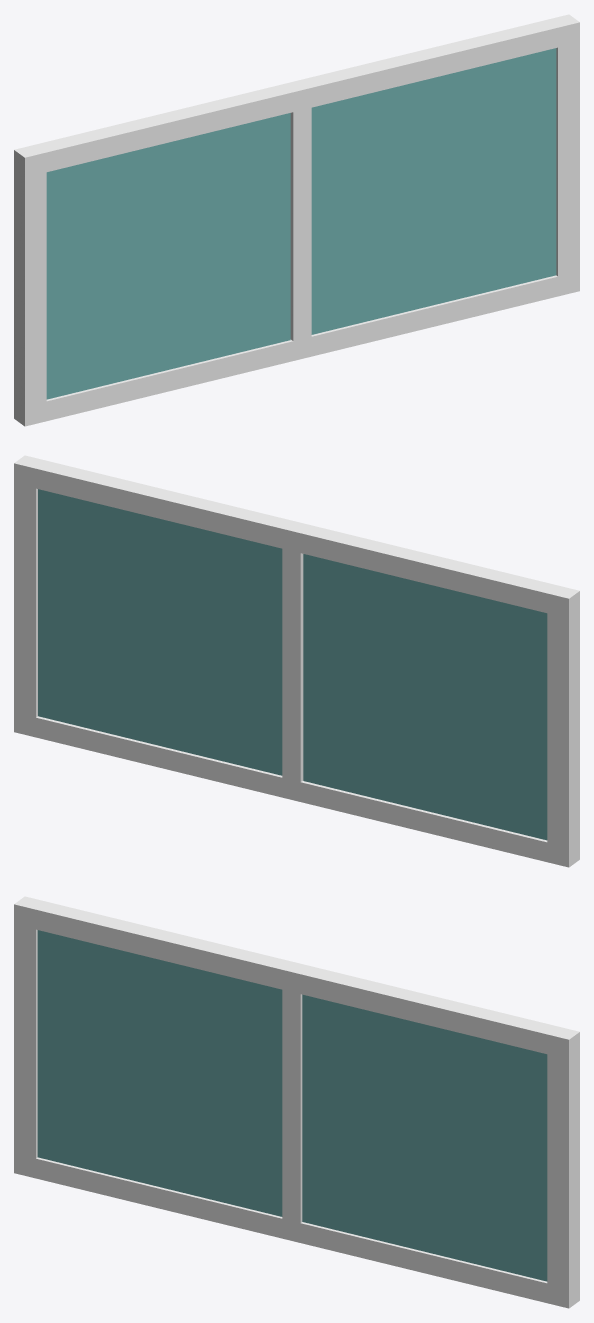
Rendered from Bedroom_2_Window.fbx.
The picture shows the model from 3 angles, top to bottom: view 1: azimuth 30°, elevation 25°; view 2: azimuth 150°, elevation 25°; view 3: azimuth 330°, elevation 25°; orthographic projection.
Visible parts, largest first — view 1: Bedroom_2_Window; view 2: Bedroom_2_Window; view 3: Bedroom_2_Window.
Part boxes in pixels (box(x1,y1,x2,y2)): Bedroom_2_Window: box(14, 14, 579, 426); Bedroom_2_Window: box(14, 455, 579, 867); Bedroom_2_Window: box(14, 896, 579, 1308).
Size of the model in its own units: 352 by 11.96 by 163.
